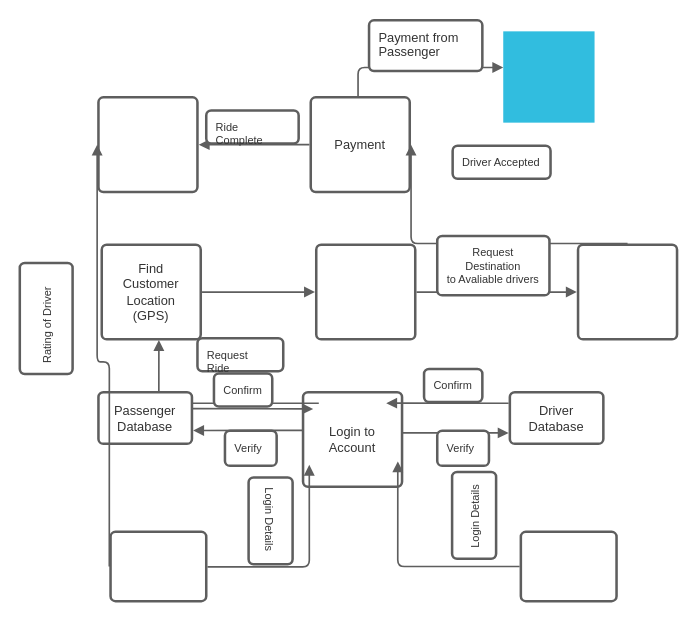
Some shapes in this 697 by 622 pixel diagram are drawn without their labels. The centre of each missing label's shape, as x and y in pixels:
"Bank" belongs at point 548,76.
"Driver" belongs at point 568,566.
"Find Available Driver (GPS)" belongs at point 627,291.
"Offer Fare" belongs at point 365,291.
"Passenger" belongs at point 158,566.
"Rate Driver" belongs at point 147,144.
